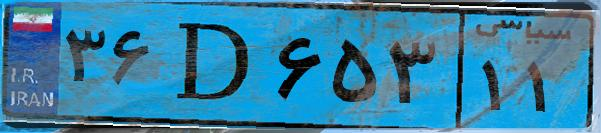1: (475, 38, 525, 113), (525, 38, 570, 115)
3: (385, 28, 445, 110), (57, 26, 110, 100)
5: (330, 28, 385, 110)
6: (270, 28, 330, 110), (110, 28, 158, 98)
D: (158, 12, 270, 120)
